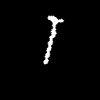half_double_crochet: (44, 16, 63, 63)
